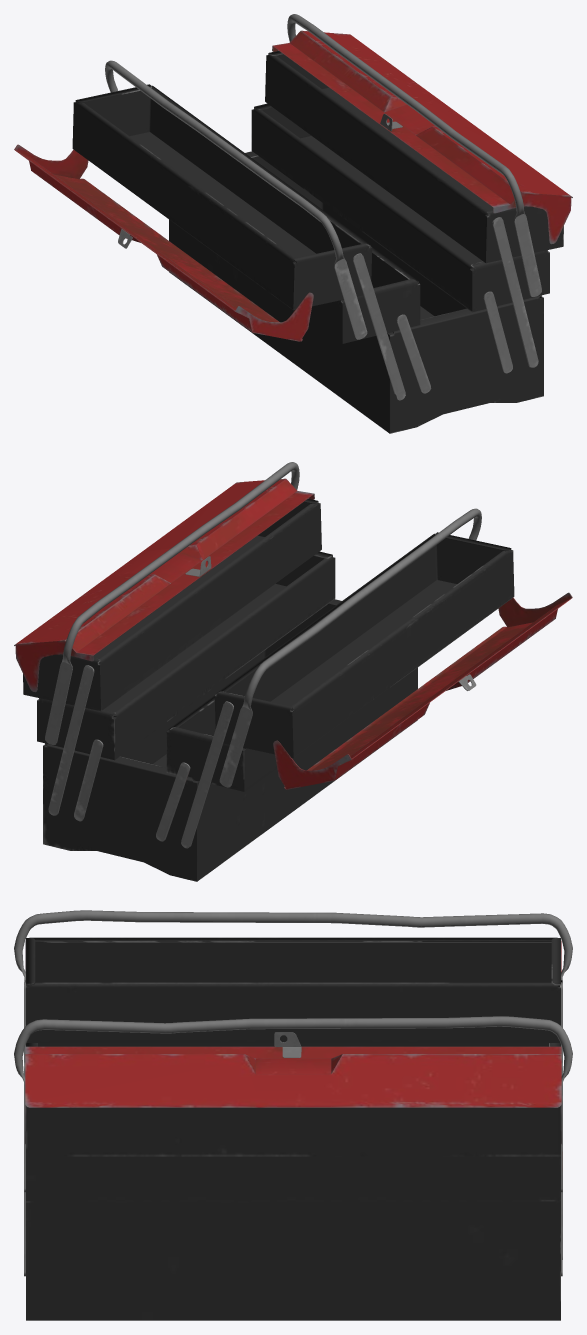
3 renders of one model, top to bottom at view 1: azimuth 30°, elevation 25°; view 2: azimuth 150°, elevation 25°; view 3: azimuth 270°, elevation 25°, orthographic. The views are drawn at different scales.
Parts seen in each view (by area): view 1: CassettaDegliAttrezzi_0; view 2: CassettaDegliAttrezzi_0; view 3: CassettaDegliAttrezzi_0.
Boxes of the visible parts, <box> form: CassettaDegliAttrezzi_0: <box>14,14,572,433</box>; CassettaDegliAttrezzi_0: <box>14,462,572,881</box>; CassettaDegliAttrezzi_0: <box>14,910,572,1320</box>.
Bounding box in the file's own units: 0.4535 × 0.2939 × 0.5242.
Materials: 1 (1 with a texture image).
